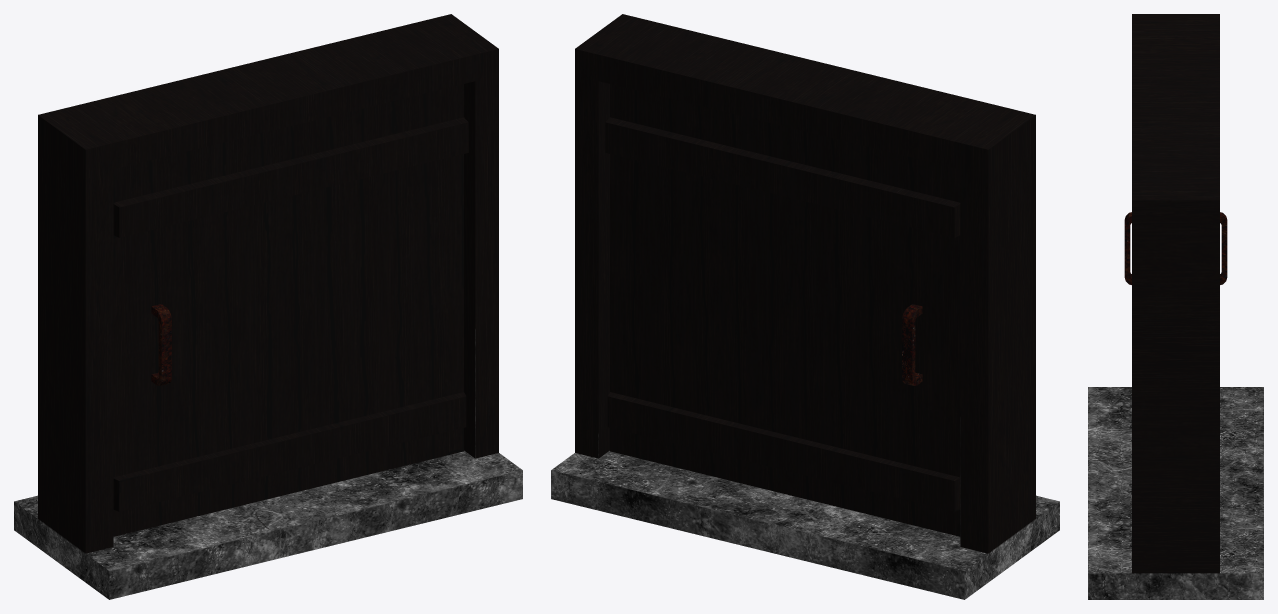
File: DoorGame 1.fbx
3 views of the same model, side by side, from view 1: azimuth 30°, elevation 25°; view 2: azimuth 150°, elevation 25°; view 3: azimuth 270°, elevation 25° (orthographic). The views are drawn at different scales.
Parts seen in each view (by area): view 1: pCube4, polySurface2; view 2: pCube4, polySurface2; view 3: polySurface2, pCube4.
Part boxes in pixels (x1,y1,x2,y2): pCube4: (113, 84, 468, 536); polySurface2: (14, 14, 522, 599); pCube4: (605, 84, 960, 536); polySurface2: (551, 14, 1059, 599); polySurface2: (1088, 14, 1263, 599); pCube4: (1124, 212, 1227, 284).
Size of the model in its own units: 1 by 1 by 0.3987.
